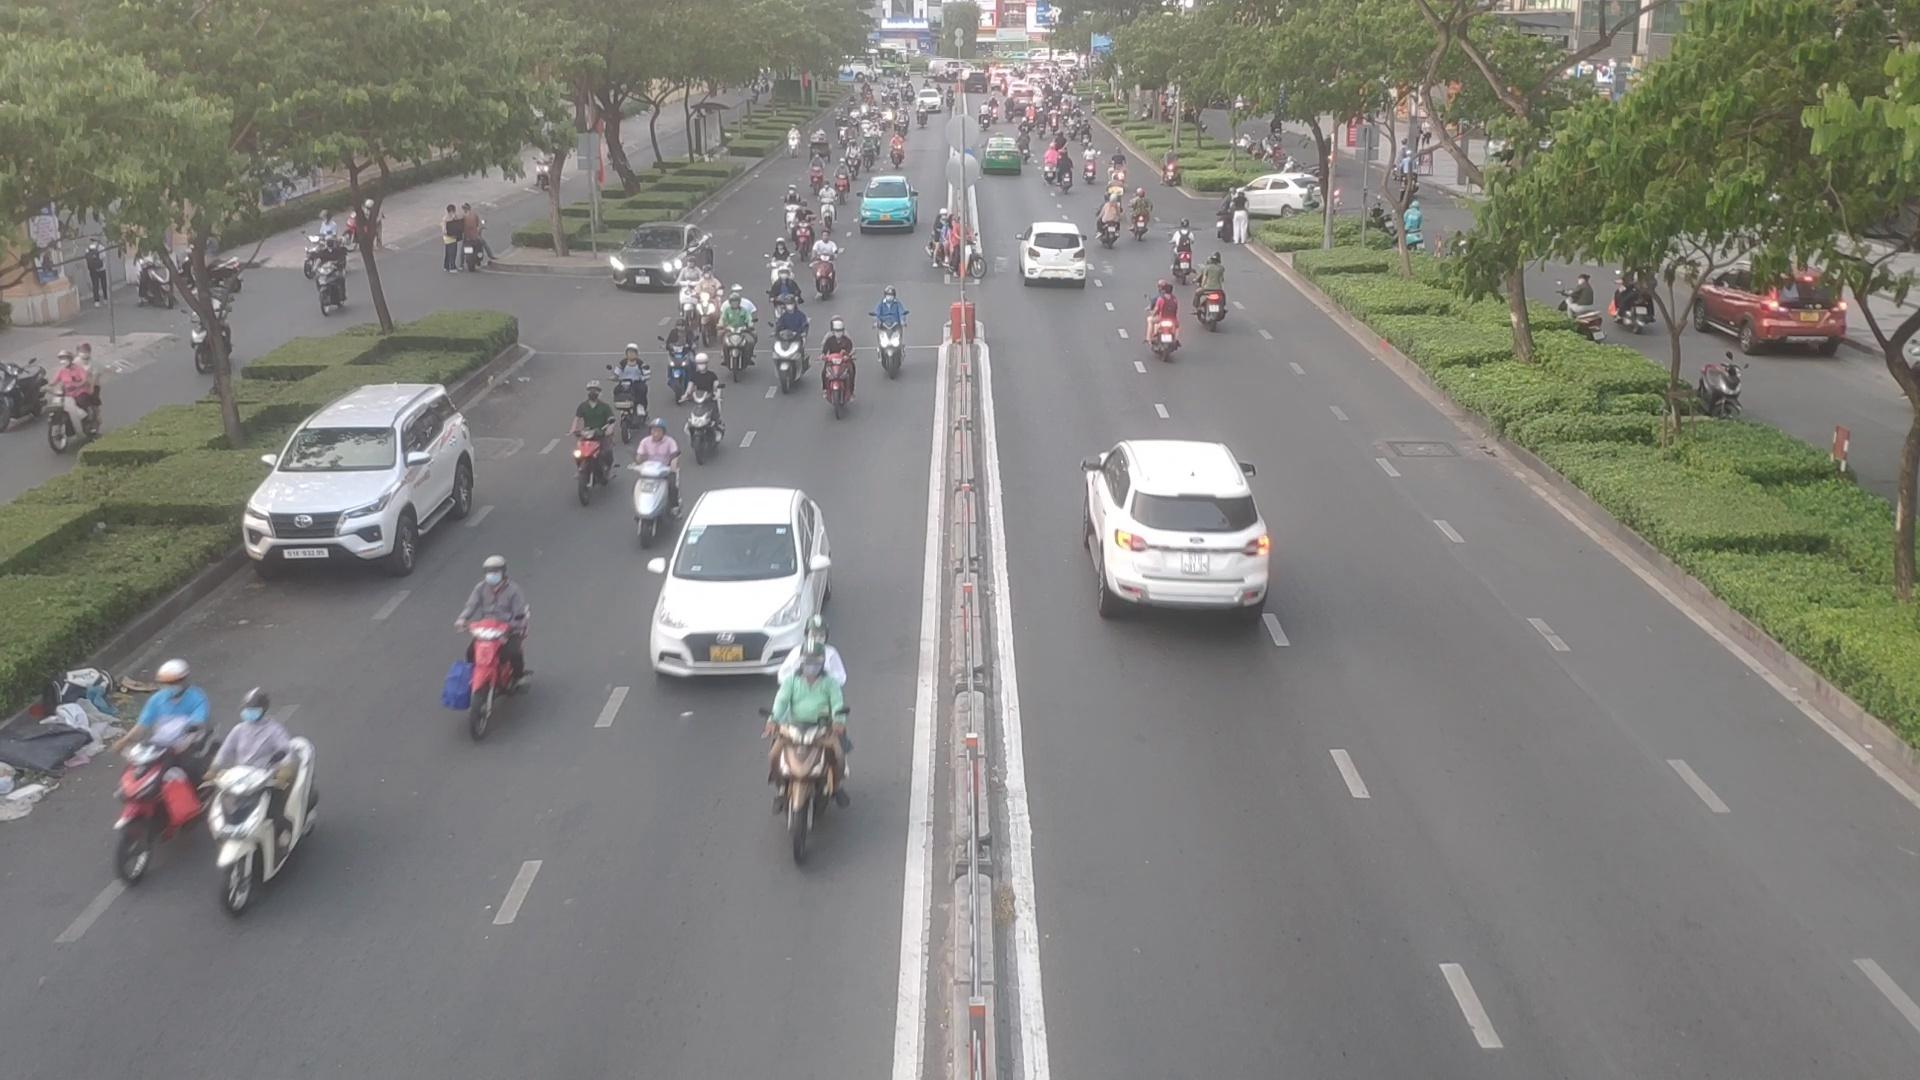car: (243, 382, 489, 576), (647, 488, 837, 680), (1083, 440, 1280, 617), (611, 225, 696, 293), (1019, 223, 1095, 289), (1226, 174, 1320, 222), (860, 179, 922, 233)
motorbike: (193, 698, 344, 899), (749, 626, 869, 858), (95, 647, 222, 851), (440, 618, 535, 742), (622, 415, 682, 530), (676, 363, 733, 473), (818, 320, 866, 435), (864, 281, 913, 393), (556, 402, 604, 500), (767, 302, 815, 382), (719, 291, 764, 376), (1184, 251, 1225, 340), (613, 352, 655, 435), (691, 264, 731, 351), (1147, 284, 1188, 367), (654, 315, 691, 402), (1083, 187, 1120, 247), (666, 255, 696, 326), (764, 274, 799, 328), (1172, 228, 1200, 289), (761, 233, 793, 286), (1131, 186, 1156, 251), (818, 229, 841, 291), (816, 179, 841, 229), (794, 203, 816, 253), (803, 149, 823, 193), (783, 183, 802, 227), (836, 154, 849, 203)
